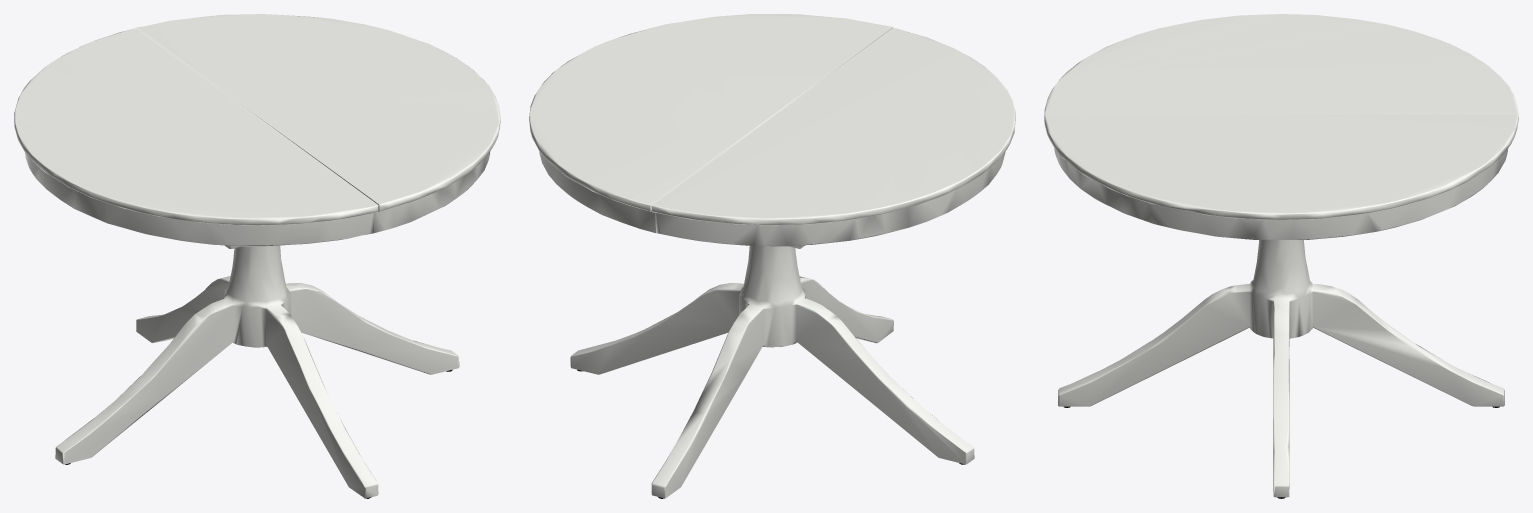
The model's file is rosentorp_extendable_table_white.glb.
3 renders of one model, left to right at view 1: azimuth 30°, elevation 25°; view 2: azimuth 150°, elevation 25°; view 3: azimuth 270°, elevation 25°, orthographic. The views are drawn at different scales.
Parts seen in each view (by area): view 1: ASY_LPT05_80568239_S01_NV01, ASY_LPT09_80568239_S01_NV01, ASY_ART_80568239_S01_NV01; view 2: ASY_LPT05_80568239_S01_NV01, ASY_LPT09_80568239_S01_NV01, ASY_ART_80568239_S01_NV01; view 3: ASY_LPT09_80568239_S01_NV01, ASY_LPT05_80568239_S01_NV01, ASY_ART_80568239_S01_NV01.
Boxes of the visible parts, x1,y1,x2,y2 form: ASY_LPT05_80568239_S01_NV01: (14,28,378,246); ASY_LPT09_80568239_S01_NV01: (136,14,500,233); ASY_ART_80568239_S01_NV01: (55,245,459,498); ASY_LPT05_80568239_S01_NV01: (651,28,1015,246); ASY_LPT09_80568239_S01_NV01: (529,14,893,232); ASY_ART_80568239_S01_NV01: (570,245,974,498); ASY_LPT09_80568239_S01_NV01: (1044,113,1518,239); ASY_LPT05_80568239_S01_NV01: (1044,14,1518,116); ASY_ART_80568239_S01_NV01: (1058,240,1504,498).
Bounding box in the file's own units: 1.1 × 0.7506 × 1.1.
7 materials, 7 textured.
